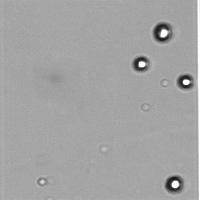Living Cell: (159, 171, 188, 197), (150, 19, 175, 47), (172, 70, 198, 93), (129, 53, 153, 76)
